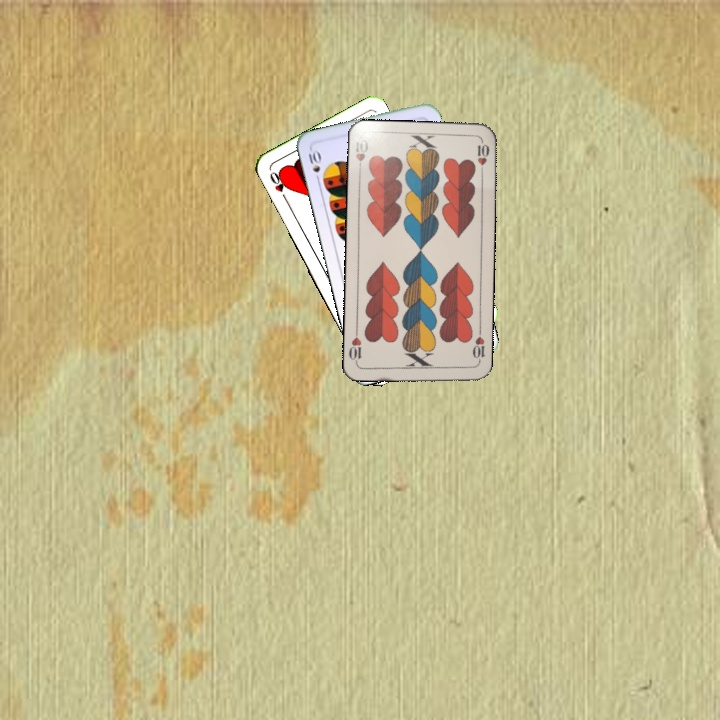H10: (351, 136, 371, 175), (468, 326, 487, 367)
HO: (265, 167, 290, 204)
S10: (303, 145, 323, 186)
